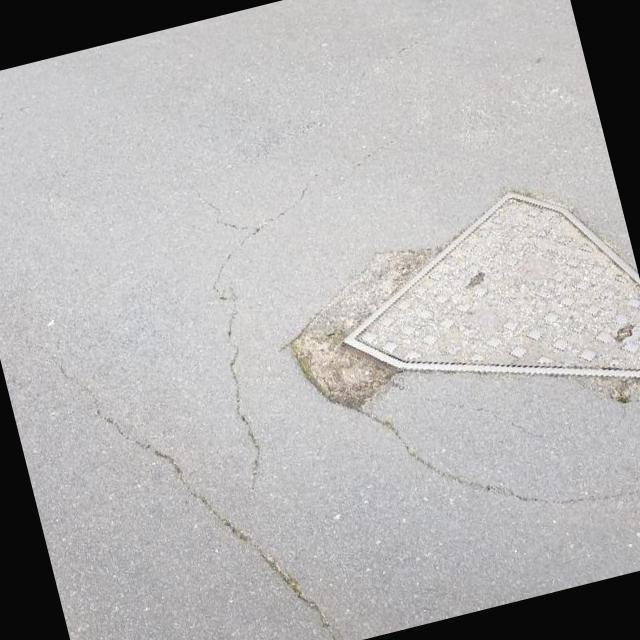pothole: (264, 226, 477, 430)
